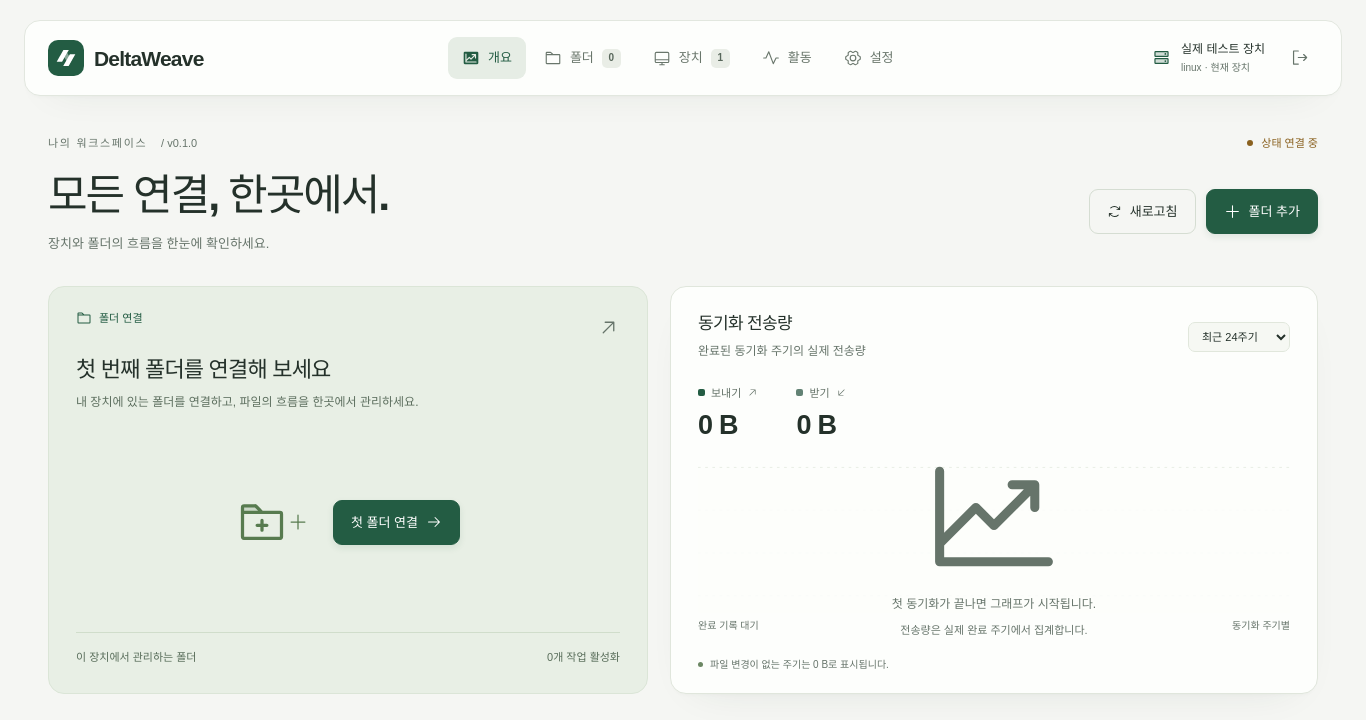
Test: opens server directory browsing from a blank path without sending an empty path parameter
This screenshot has width=1366, height=720.
Expected: the heading "첫 번째 폴더를 연결해 보세요" is shown, [76,357,330,382]
Click the button "폴더 추가". click: (1262, 212)
box: [1206,189,1318,234]
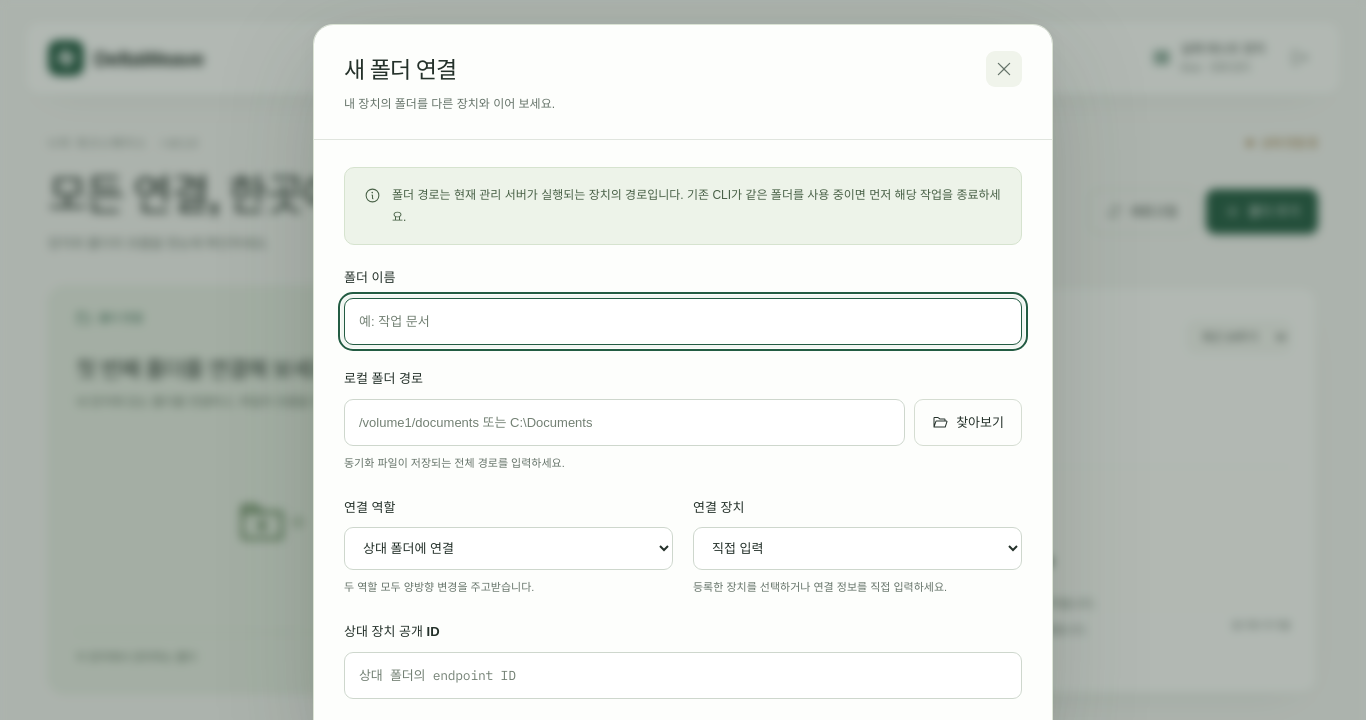
Click the button "찾아보기". click: (968, 422)
box: [914,399,1022,446]
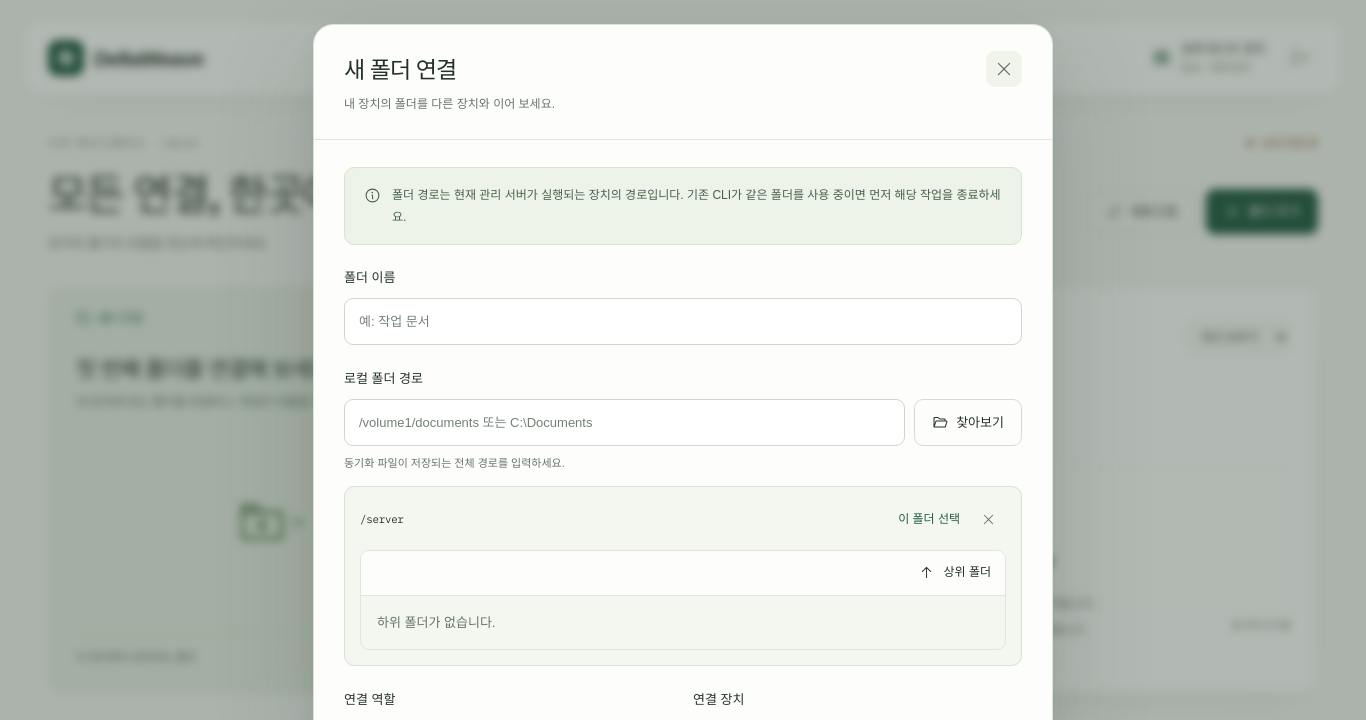
Now the text "/server" is shown, box [360,512,404,526]
